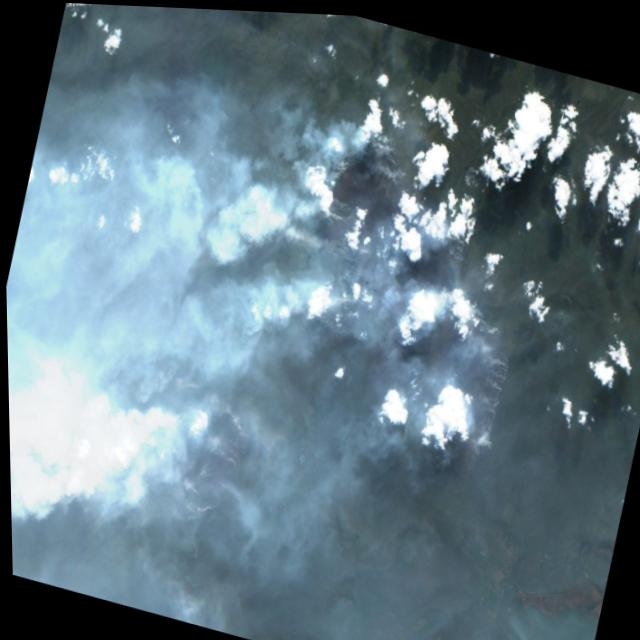fire: (249, 89, 567, 486), (97, 339, 261, 541)
